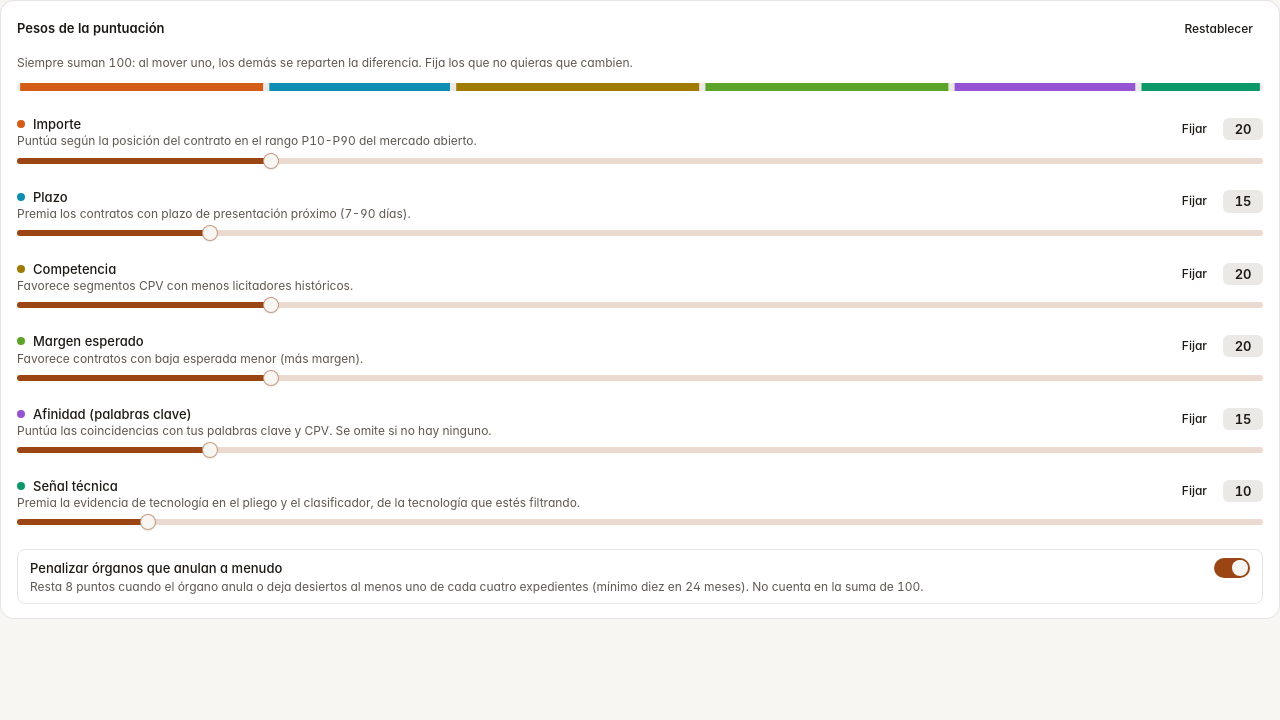
Scenario: PesosScoringCard · reparto › con todos los demás fijados no queda con qué compensar y lo dice
Click the 2nd button "Fijar" at [1194, 202], box [1172,188,1217,216]
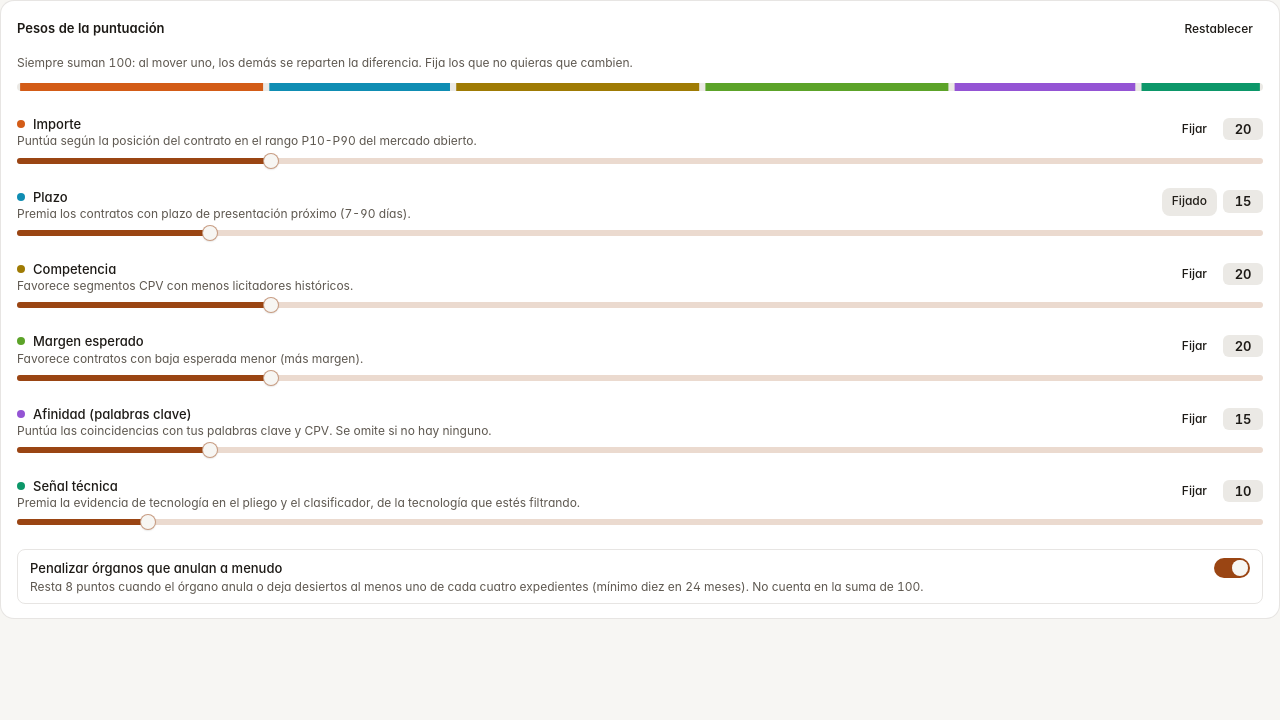
Click the button "Fijar" in the row of "Competencia" at [1194, 274], box [1172,260,1217,288]
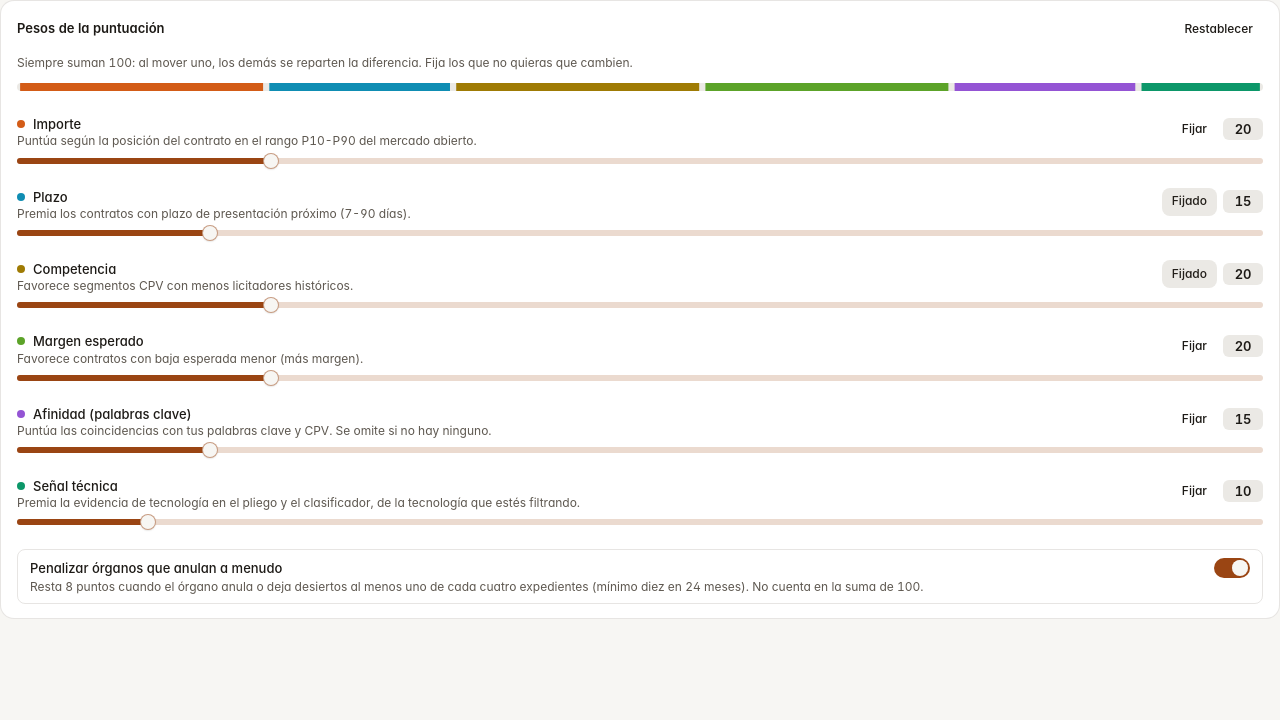
Click the button "Fijar" in the row of "Margen esperado" at [1194, 346], box [1172,332,1217,360]
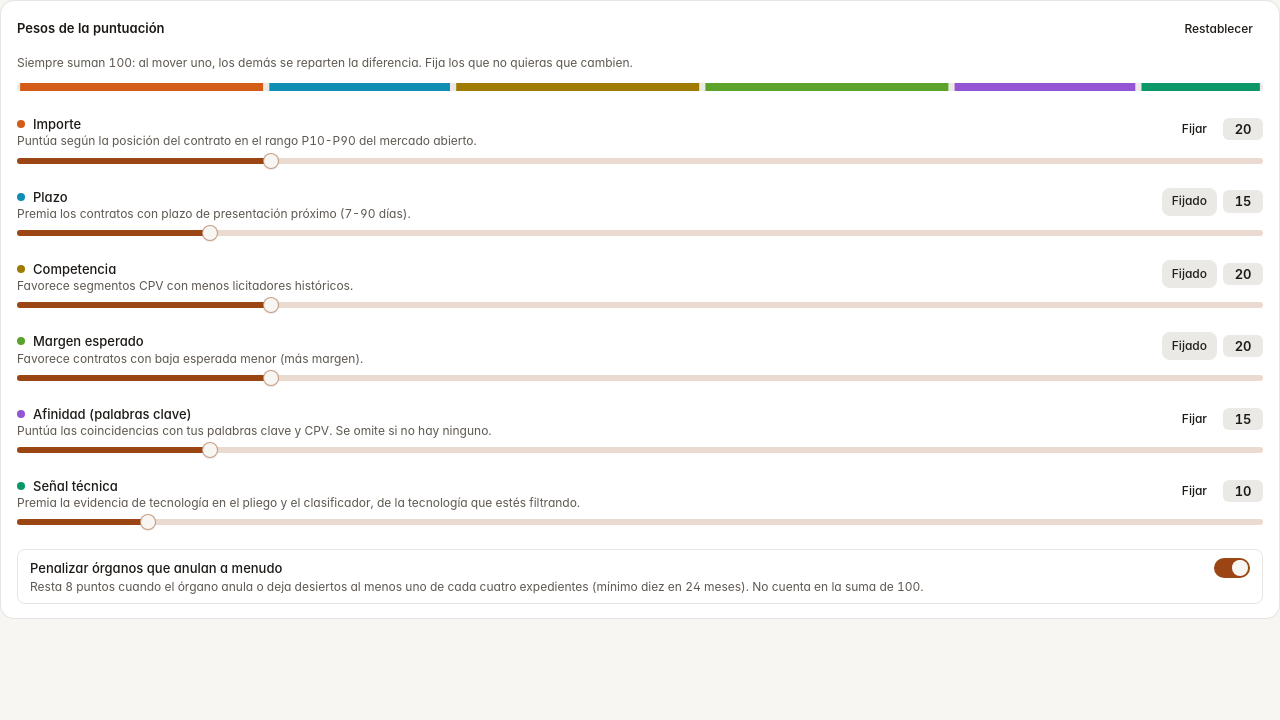
Click the button "Fijar" in the row of "Afinidad (palabras clave)" at [1194, 419], box [1172,405,1217,433]
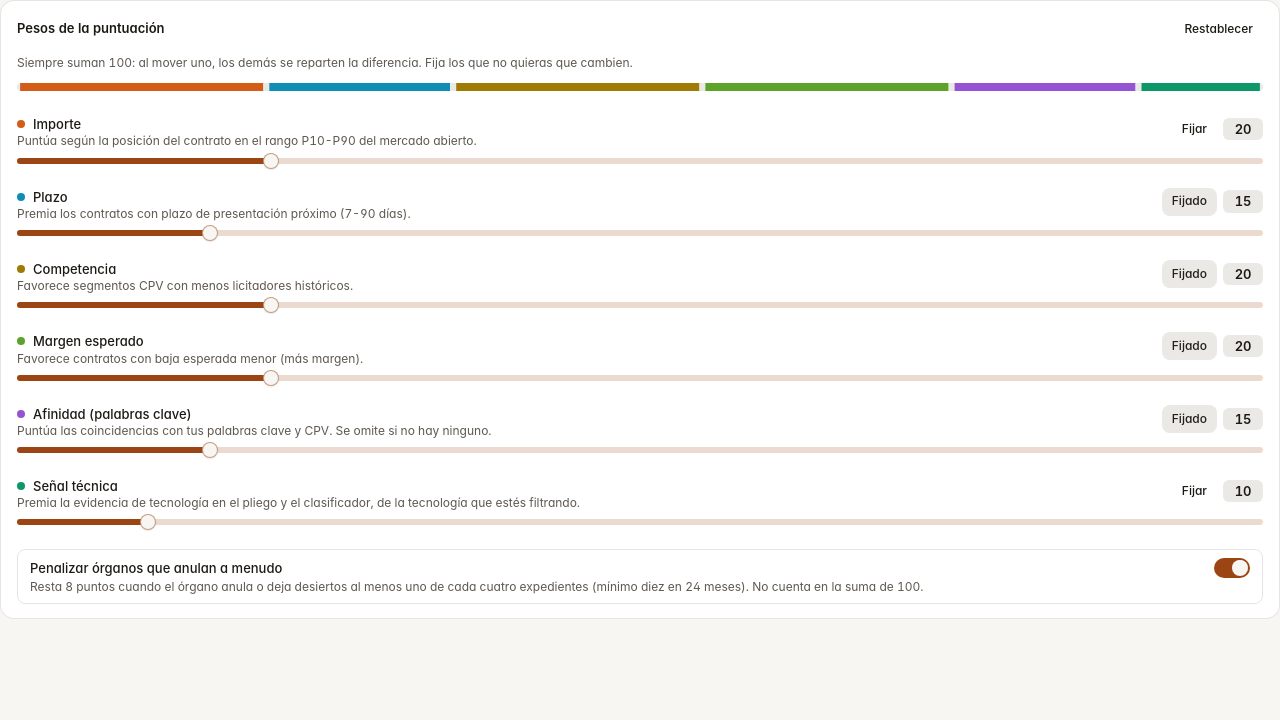
Click the button "Fijar" in the row of "Señal técnica" at [1194, 491], box [1172,477,1217,505]
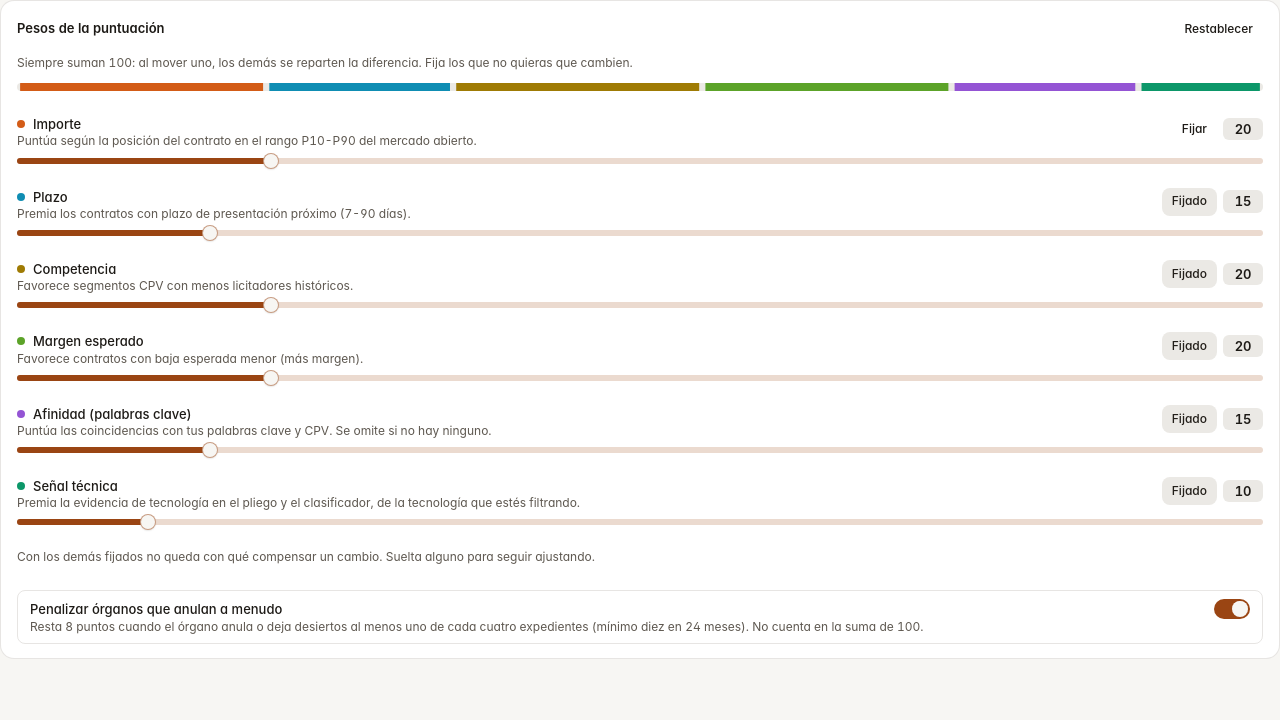
Now the text "no queda con qué compensar" is shown, box [17,549,595,564]
